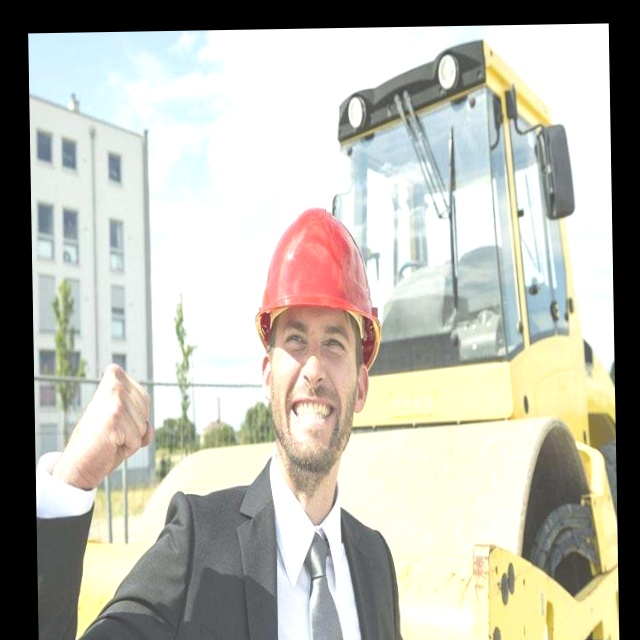Con_Casco: (252, 204, 378, 474)
